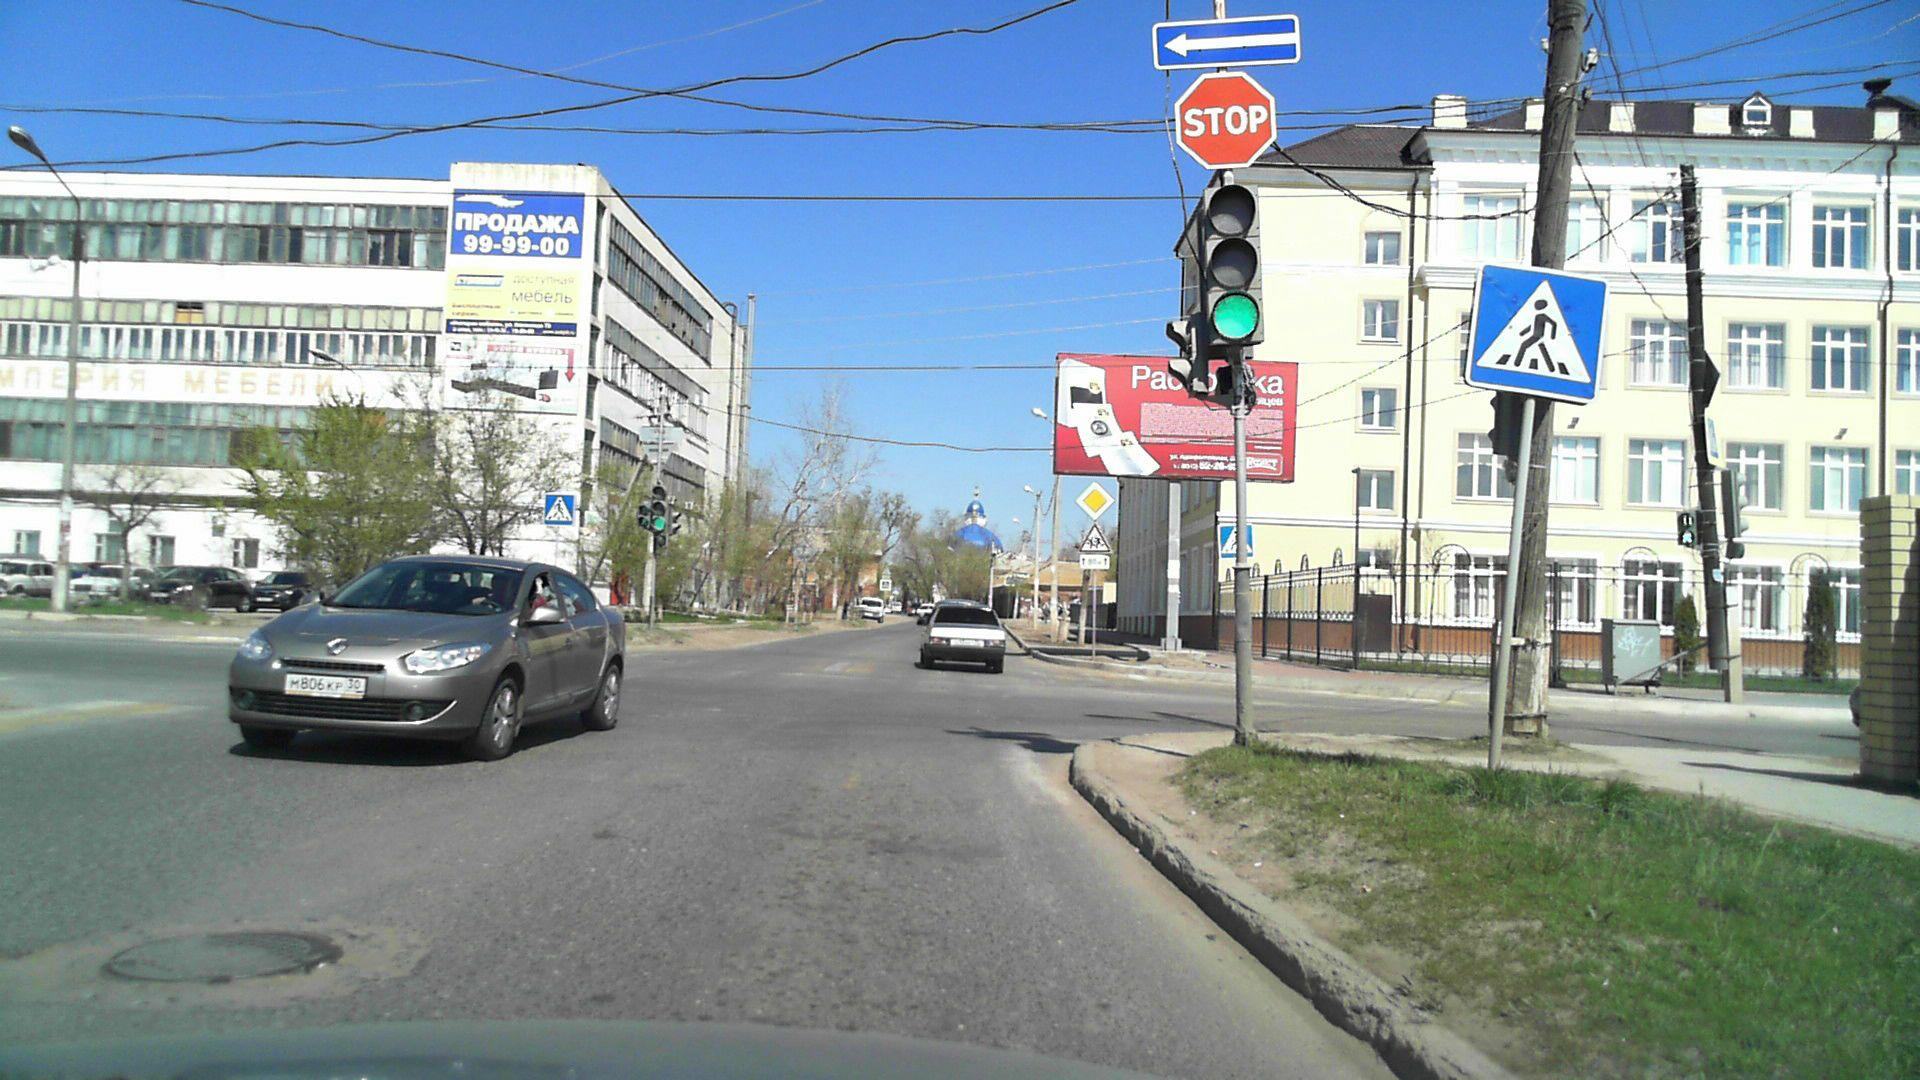1_23: (1079, 522, 1113, 553)
2_1: (1075, 481, 1116, 520)
2_5: (1174, 73, 1280, 169)
5_19_1: (1466, 262, 1602, 400), (1217, 524, 1254, 558), (1702, 417, 1722, 464)
5_19_2: (543, 493, 575, 526)
5_7_2: (1153, 15, 1299, 70)
8_2_1: (1079, 554, 1110, 570)
